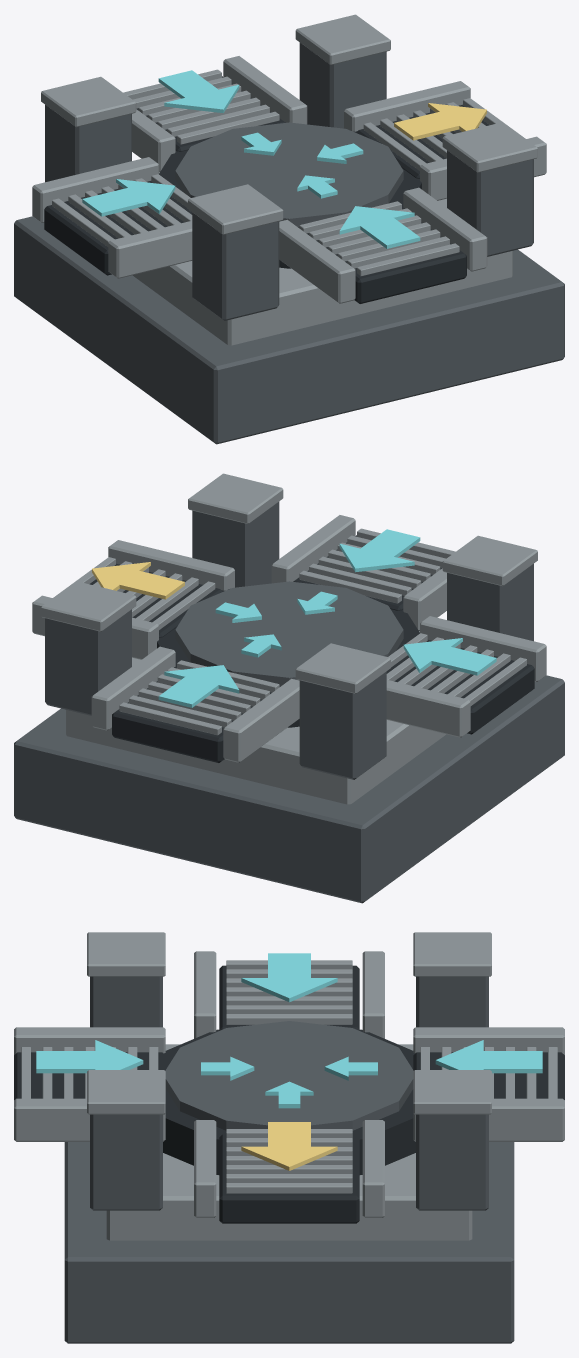
The model's file is merger-mk1.glb.
The picture shows the model from 3 angles, top to bottom: view 1: azimuth 30°, elevation 25°; view 2: azimuth 150°, elevation 25°; view 3: azimuth 270°, elevation 25°; orthographic projection. The views are drawn at different scales.
Parts seen in each view (by area): view 1: merger-mk1 / Graphite enamel, merger-mk1 / Machined steel, merger-mk1 / Cyan inlet markings, merger-mk1 / Recesses and belt, merger-mk1 / Gold outlet markings; view 2: merger-mk1 / Graphite enamel, merger-mk1 / Machined steel, merger-mk1 / Cyan inlet markings, merger-mk1 / Recesses and belt, merger-mk1 / Gold outlet markings; view 3: merger-mk1 / Graphite enamel, merger-mk1 / Machined steel, merger-mk1 / Recesses and belt, merger-mk1 / Cyan inlet markings, merger-mk1 / Gold outlet markings.
Boxes of the visible parts, bbox=[...] form: merger-mk1 / Graphite enamel: bbox=[14, 42, 564, 444]; merger-mk1 / Machined steel: bbox=[32, 14, 546, 345]; merger-mk1 / Cyan inlet markings: bbox=[82, 70, 420, 248]; merger-mk1 / Recesses and belt: bbox=[44, 76, 489, 303]; merger-mk1 / Gold outlet markings: bbox=[394, 103, 486, 140]; merger-mk1 / Graphite enamel: bbox=[14, 501, 564, 903]; merger-mk1 / Machined steel: bbox=[32, 473, 546, 804]; merger-mk1 / Cyan inlet markings: bbox=[158, 529, 496, 707]; merger-mk1 / Recesses and belt: bbox=[89, 535, 534, 762]; merger-mk1 / Gold outlet markings: bbox=[92, 562, 184, 599]; merger-mk1 / Graphite enamel: bbox=[64, 976, 514, 1343]; merger-mk1 / Machined steel: bbox=[14, 932, 564, 1240]; merger-mk1 / Recesses and belt: bbox=[14, 965, 564, 1223]; merger-mk1 / Cyan inlet markings: bbox=[36, 953, 542, 1108]; merger-mk1 / Gold outlet markings: bbox=[241, 1122, 337, 1170].
Size of the model in its own units: 0.98 by 0.4575 by 0.98.
